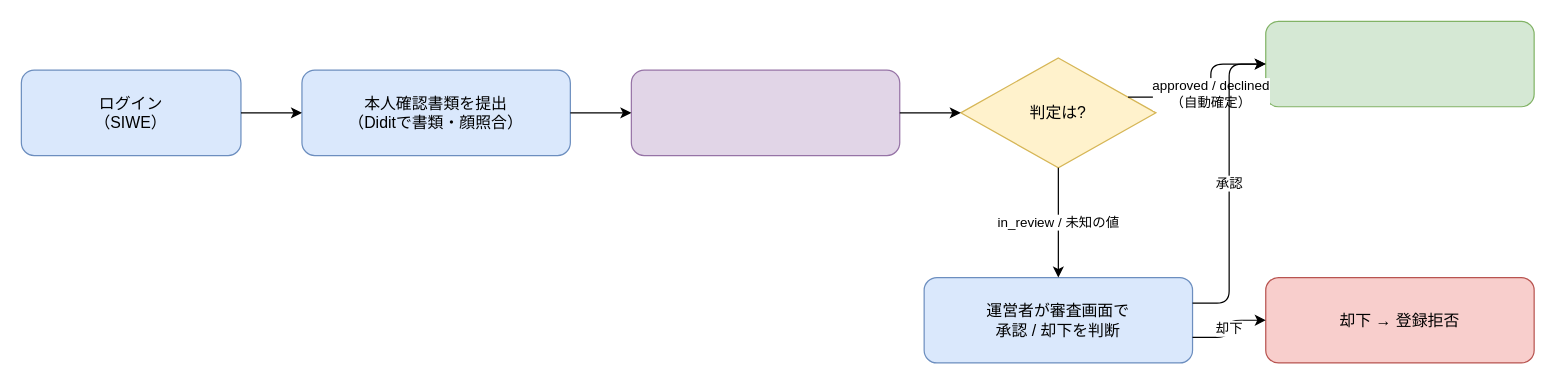
This 1556x384 diagram has some shape labels left out. Each missing label, with the centre of its shape:
"Didit: eKYC判定 署名付きWebhookで通知" goes at point 765,112.
"承認 → 出品可能に (isSellingAllowed)" goes at point 1399,63.
